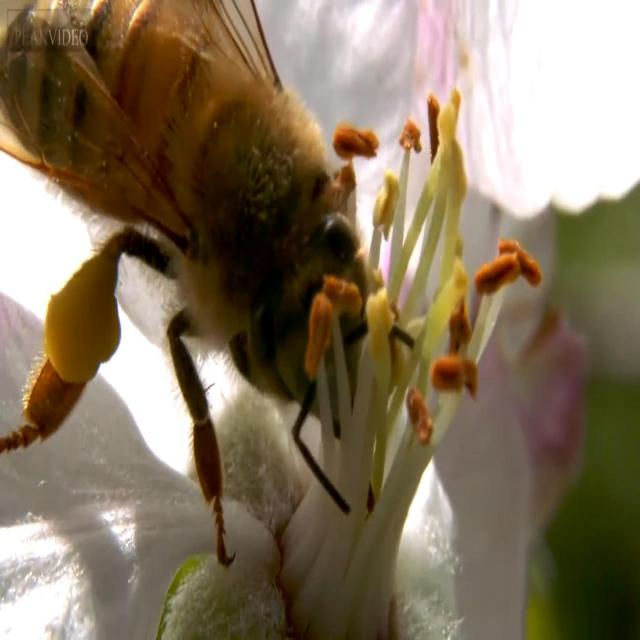honeybee: (3, 2, 383, 565)
